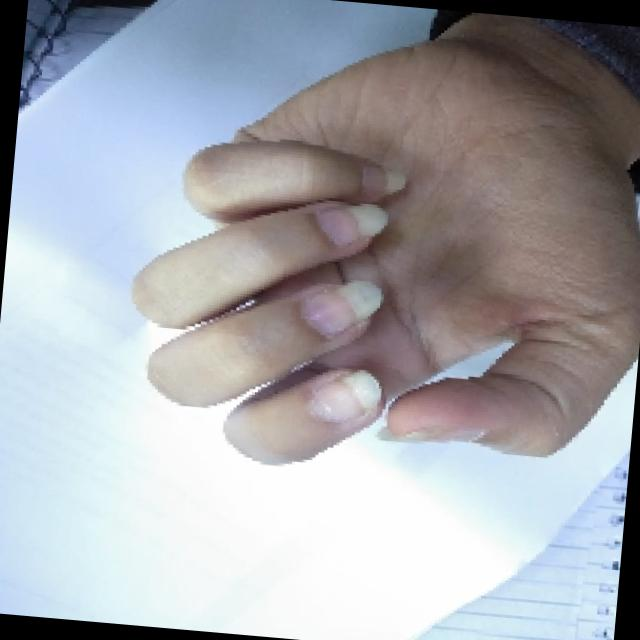Nail: (300, 280, 381, 337), (307, 370, 380, 422), (314, 203, 387, 246), (378, 424, 484, 442), (360, 166, 405, 194)
